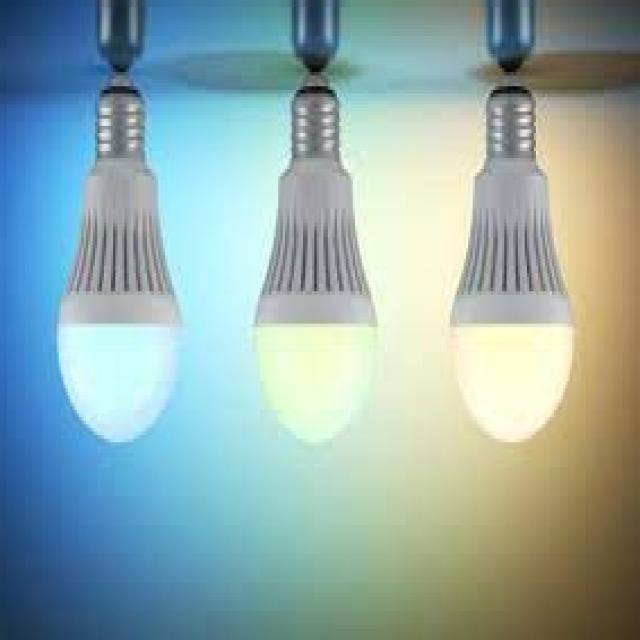light_bulb: (441, 73, 583, 459), (246, 65, 386, 455), (52, 67, 190, 457)
